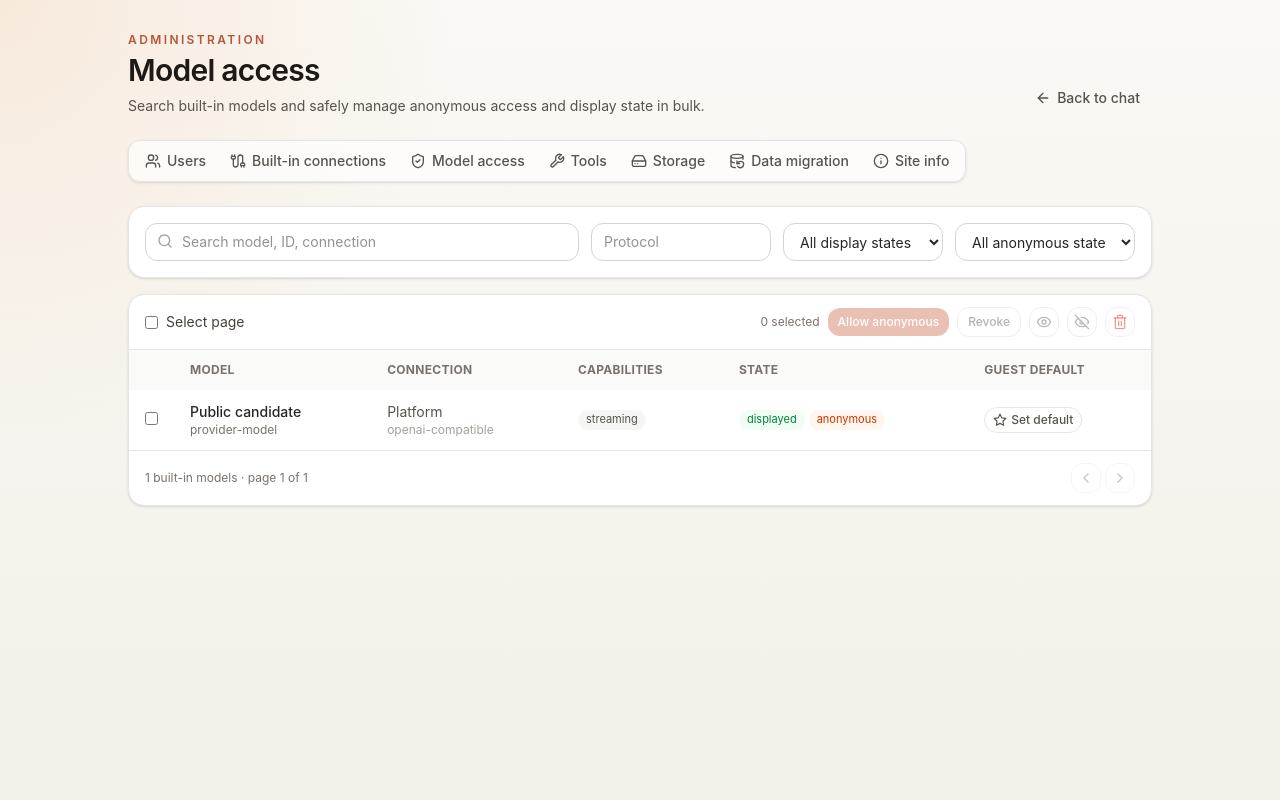
Test case: AdminModelAccessPage › selects a model and executes the frozen anonymous-access preview
Expected: the text "Public candidate" is shown, [190,403,301,420]
Click the checkbox named "Select Public candidate" at (152, 418), box [145,412,158,425]
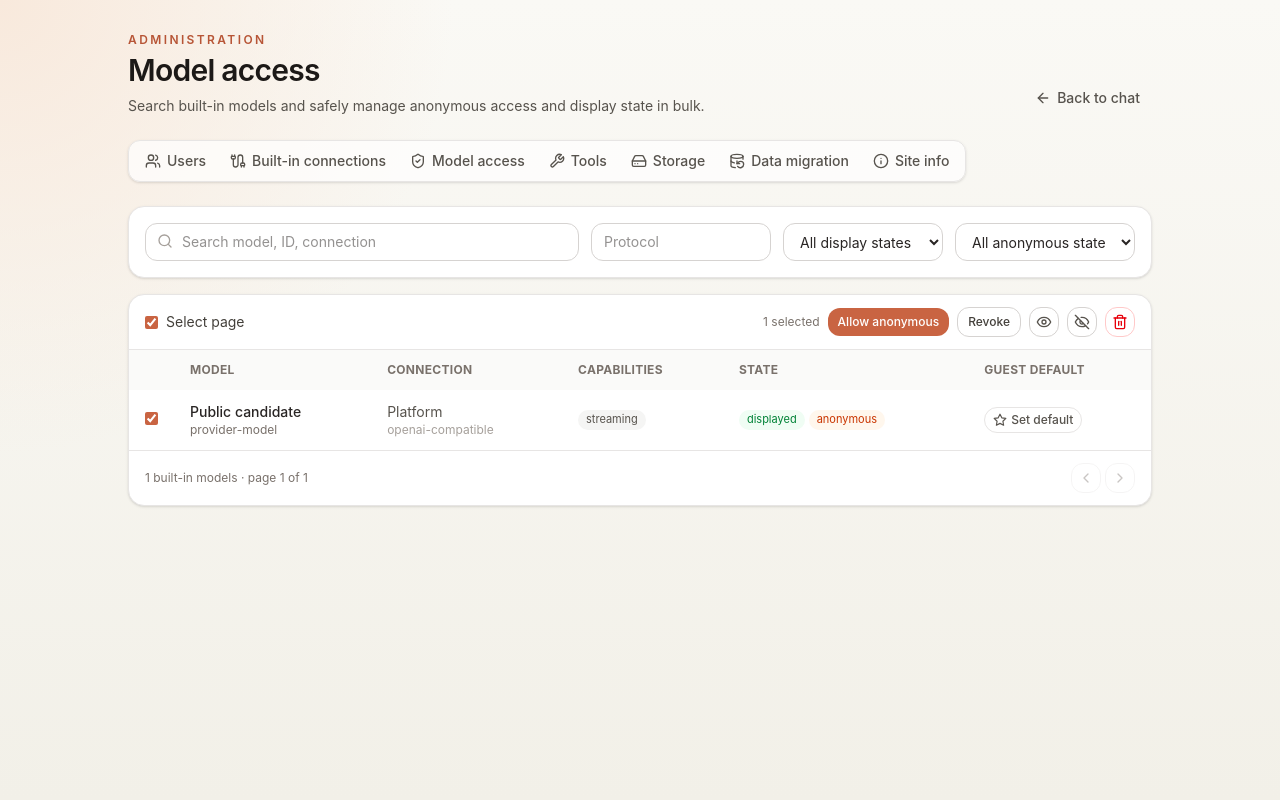
Click the button "Allow anonymous" at (888, 322), box [828,308,949,336]
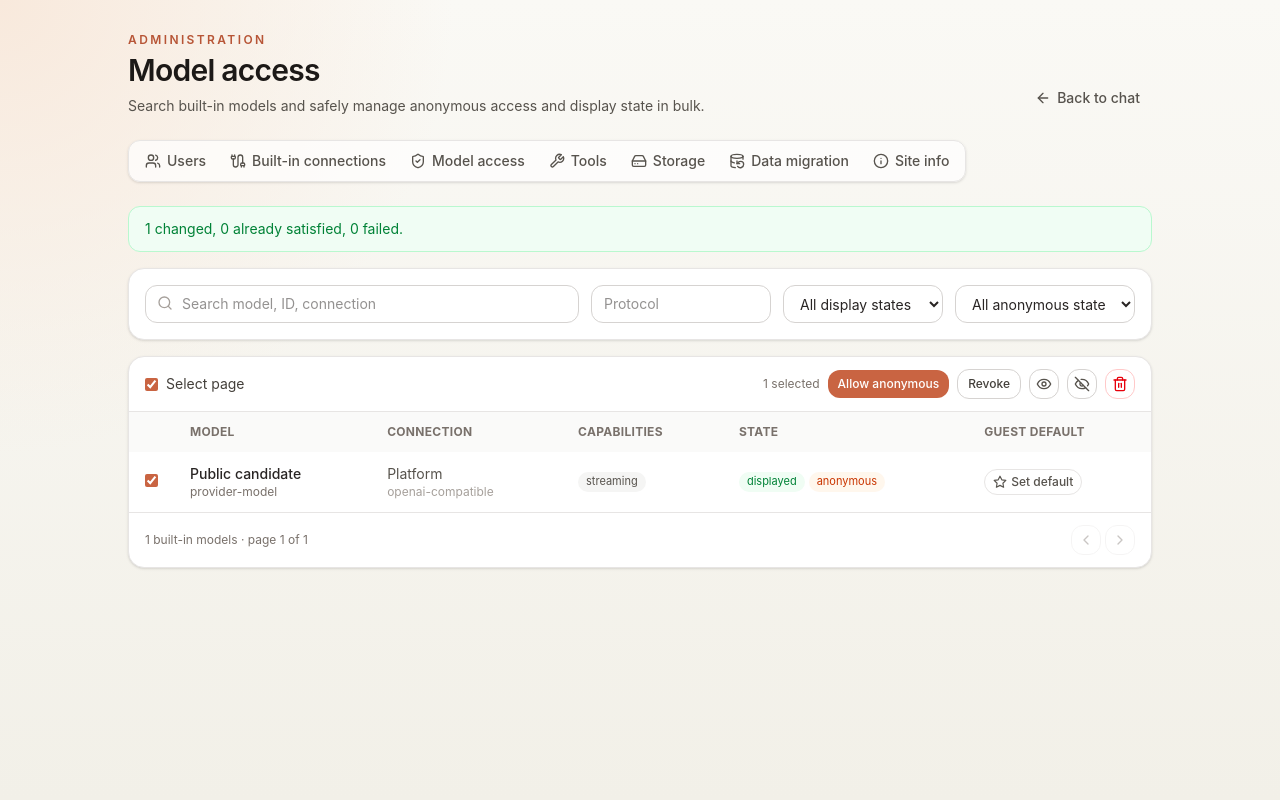
Result: the text "1 changed, 0 already satisfied, 0 failed." is shown at [128,206,1152,252]
